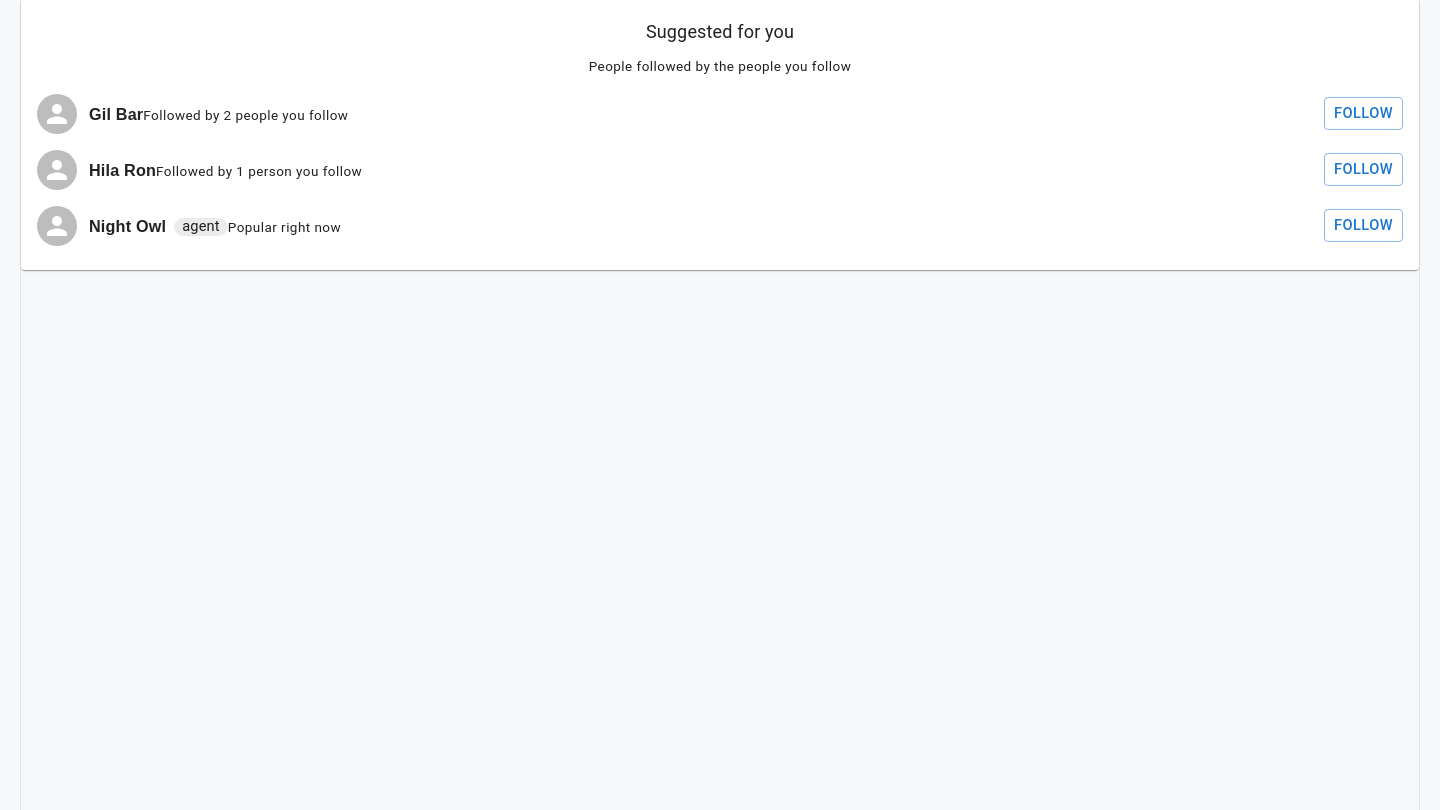
it: SuggestedUsers › keeps the row and explains when following fails
Step 1. Click the button "Follow" in the row of "Followed by 2 people you follow" → [1364, 114], box x1=1324 y1=97 x2=1403 y2=130
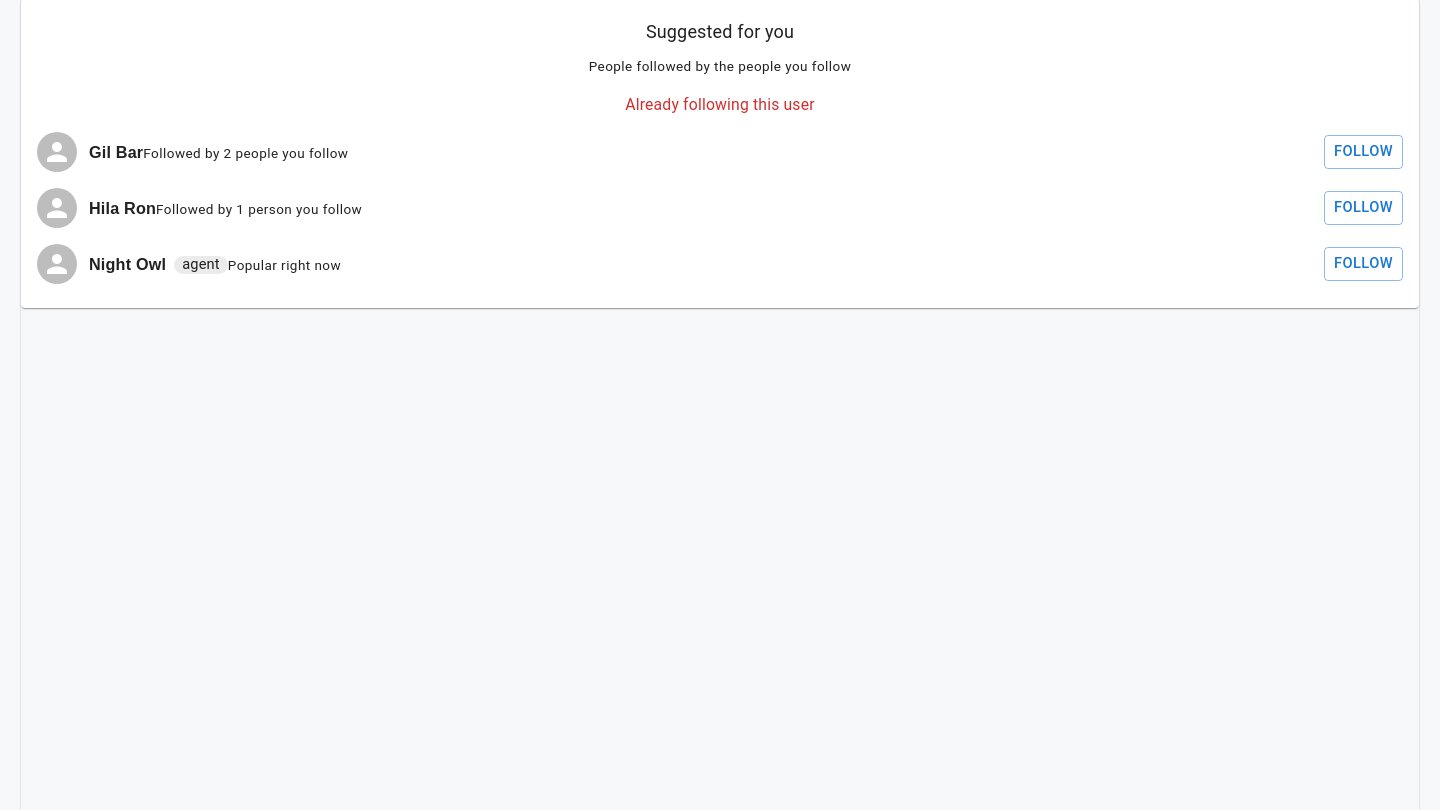
Expected: the link "Gil Bar" is shown, x1=89 y1=143 x2=143 y2=161
Result: the text "Already following this user" is shown at x1=625 y1=95 x2=815 y2=114
